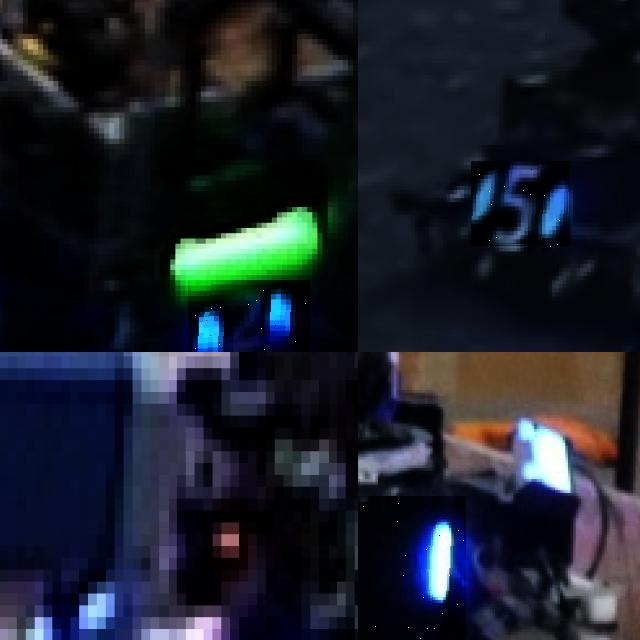B2: (188, 280, 310, 352)
B3: (358, 495, 466, 640)
B5: (471, 162, 570, 248)
